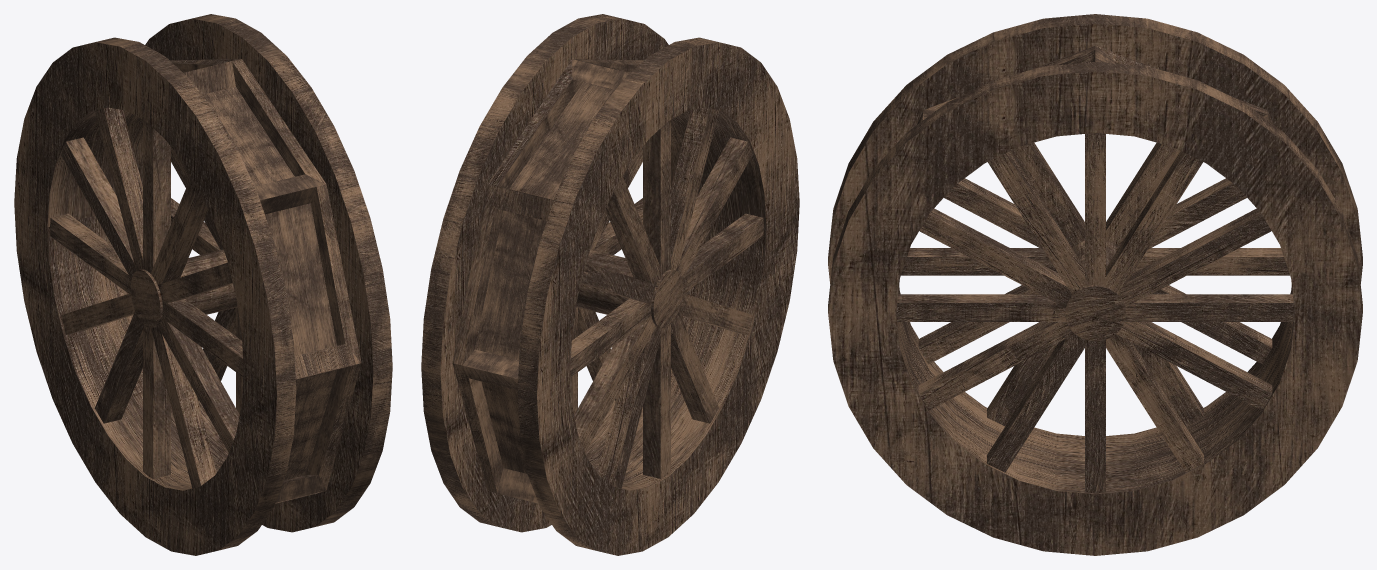
Rendered from waterwheel_vis.glb.
3 renders of one model, left to right at view 1: azimuth 30°, elevation 25°; view 2: azimuth 150°, elevation 25°; view 3: azimuth 270°, elevation 25°, orthographic.
Parts seen in each view (by area): view 1: Waterwheel_VIS; view 2: Waterwheel_VIS; view 3: Waterwheel_VIS.
Part boxes in pixels (box(x1,y1,x2,y2)): Waterwheel_VIS: box(14, 14, 392, 555); Waterwheel_VIS: box(421, 14, 799, 555); Waterwheel_VIS: box(828, 14, 1362, 555).
Bounding box in the file's own units: 1.12 × 4.4 × 4.4.
Materials: 1 (1 with a texture image).
